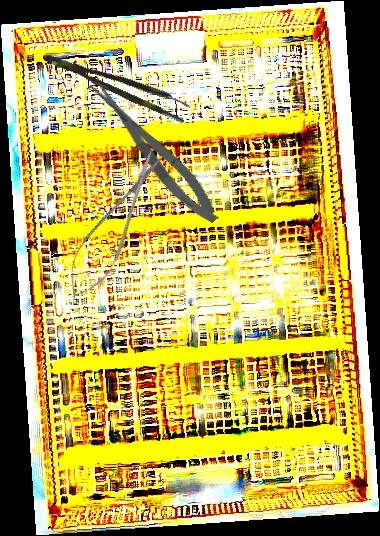Micro Scissor: (84, 70, 226, 232), (55, 142, 175, 309)
Tissue Forceps: (43, 41, 192, 125)
